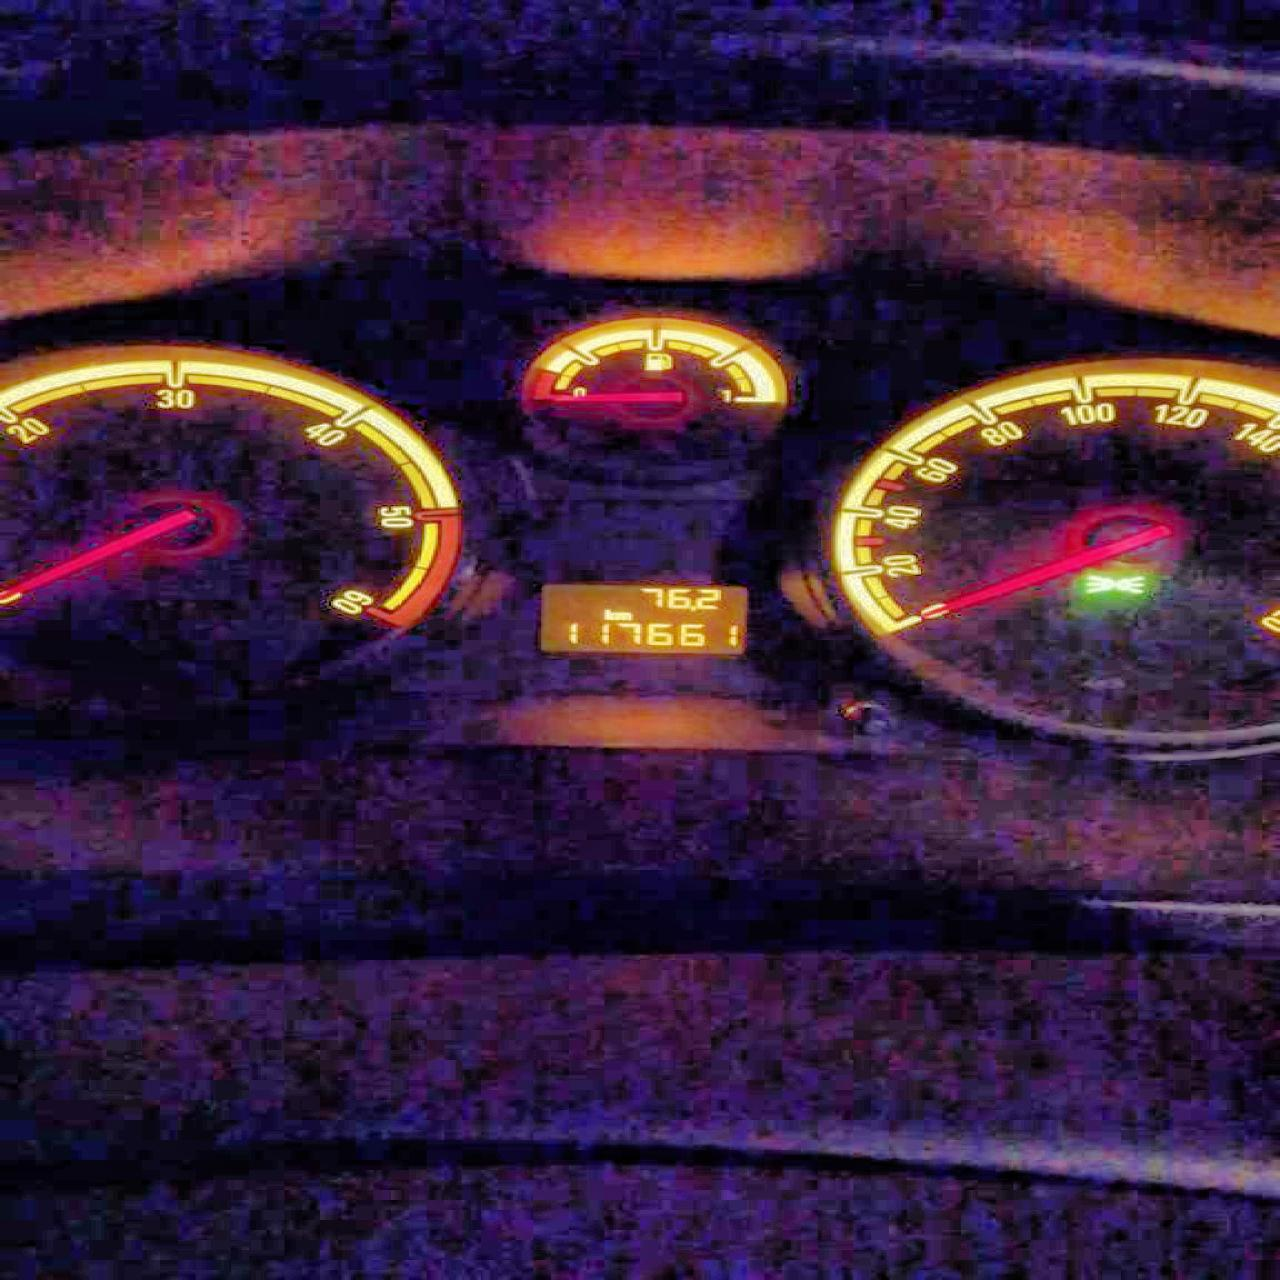-: (687, 604, 695, 611)
1: (564, 620, 578, 644), (724, 624, 737, 646), (598, 621, 610, 644)
2: (693, 587, 720, 608)
6: (675, 622, 704, 647), (645, 621, 672, 645), (665, 587, 692, 607)
7: (613, 621, 640, 645), (638, 586, 662, 607)
X: (600, 607, 613, 619), (613, 611, 631, 619)
odometer: (533, 581, 749, 654)
